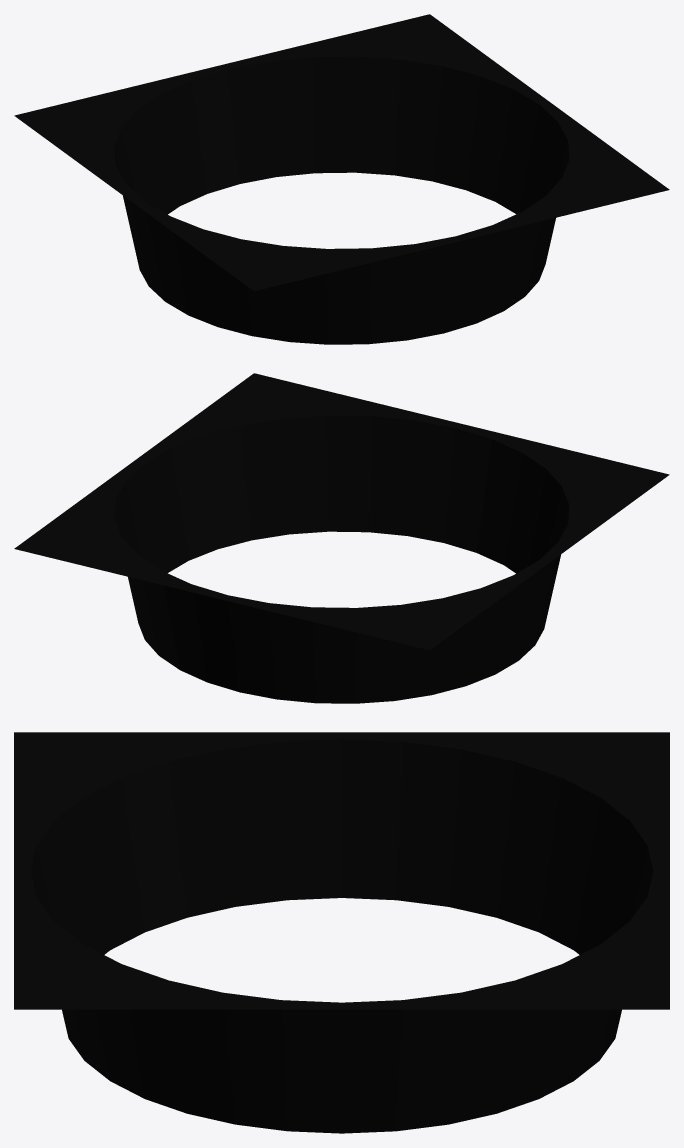
The model's file is hole_tile.glb.
The picture shows the model from 3 angles, top to bottom: view 1: azimuth 30°, elevation 25°; view 2: azimuth 150°, elevation 25°; view 3: azimuth 270°, elevation 25°; orthographic projection. The views are drawn at different scales.
Parts seen in each view (by area): view 1: Plane; view 2: Plane; view 3: Plane.
Part boxes in pixels (<box>): Plane: <box>14,14,669,344</box>; Plane: <box>14,373,669,703</box>; Plane: <box>14,732,669,1133</box>.
Bounding box in the file's own units: 1 × 0.2435 × 1.
Materials: 1 (1 with a texture image).
